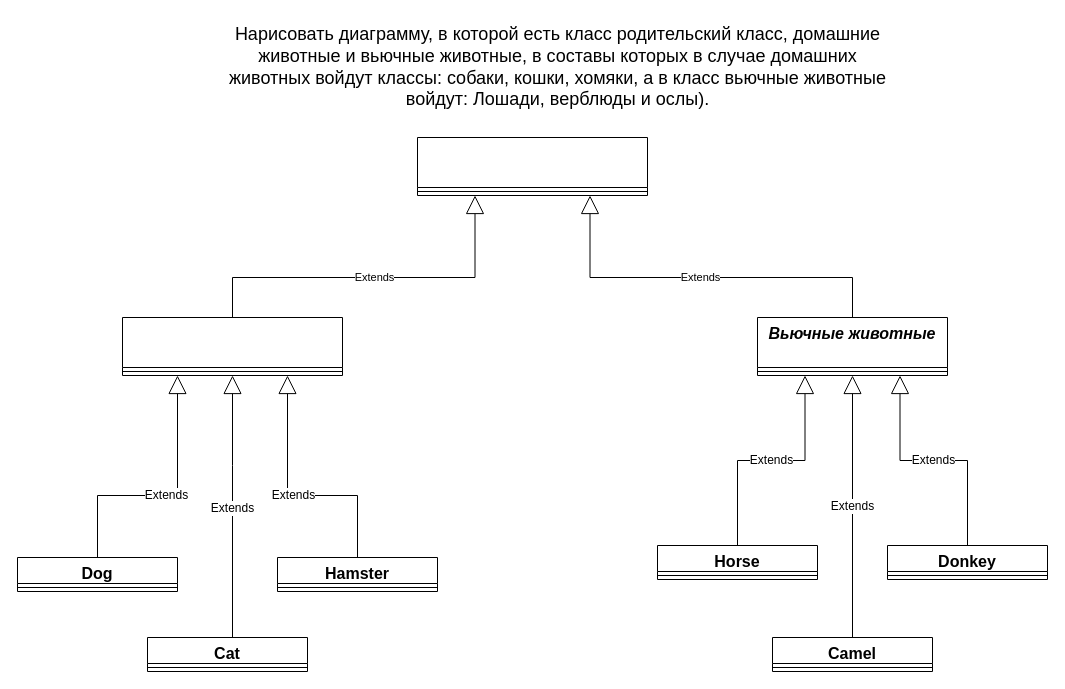
This 1065x689 diagram has some shape labels left out. The centre of each missing label's shape, as x and y in pixels:
"Домашние животные" belongs at point 232,346.
"Животные" belongs at point 532,166.
